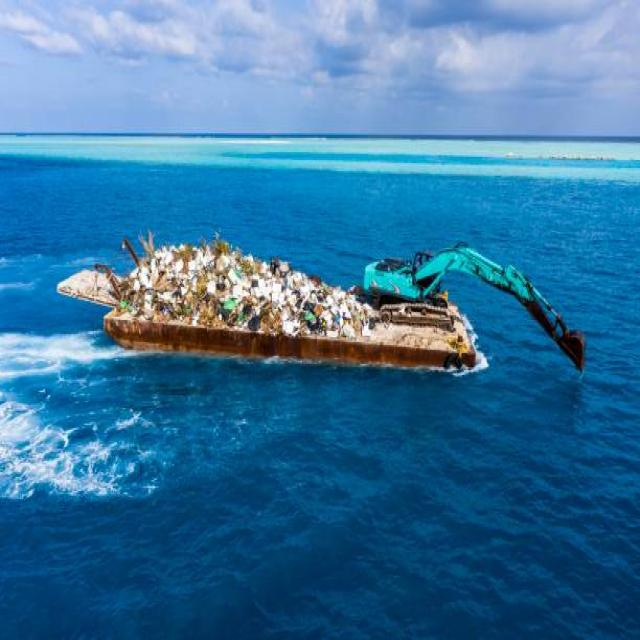trash: (94, 226, 366, 369)
